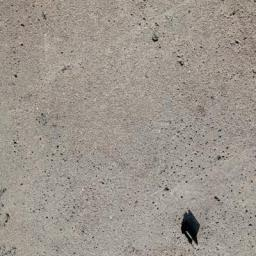FOD: (180, 210, 208, 251)
